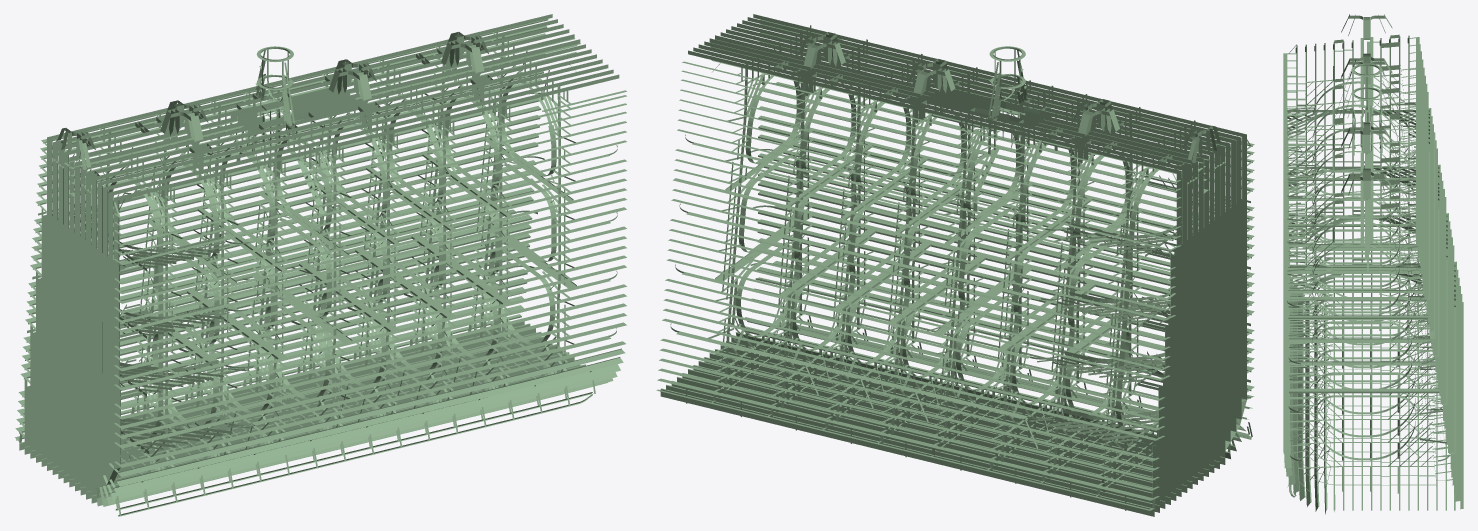
Rendered from NO_2_WING_WATER_BLT_TK_SB.glb.
The picture shows the model from 3 angles, left to right: view 1: azimuth 30°, elevation 25°; view 2: azimuth 150°, elevation 25°; view 3: azimuth 270°, elevation 25°; orthographic projection. The views are drawn at different scales.
Parts seen in each view (by area): view 1: no part large enough to name; view 2: no part large enough to name; view 3: ST_SideTransxFR89SxWeb_017001-TW_795x21+180x31_NVA_1993, ST_SideTransxFR87SxWeb_082001-TW_795x21+180x31_NVA_1993, ST_SideTransxFR88SxWeb_082001-TW_795x21+180x31_NVA_1993, ST_SideTransxFR84SxWeb_030001-TW_795x21+180x31_NVA_1993, ST_SideTransxFR88SxWeb_105001-TW_495x12+150x12_NVA_1993, ST_SideTransxFR89SxFLG_017001-TW_795x21+180x31_NVA_1993, ST_SideTransxFR83SxWeb_082001-TW_795x21+180x31_NVA_1993, ST_SideTransBHDxBHD85SxWeb_003001-TW_795x21+180x31_NVA_1993, ST_SideTransxFR86SxWeb_113001-TW_495x12+150x12_NVA_1993.
Part boxes in pixels (left/top/right/bottom): ST_SideTransxFR89SxWeb_017001-TW_795x21+180x31_NVA_1993: left=1289, top=388, right=1386, bottom=391; ST_SideTransxFR87SxWeb_082001-TW_795x21+180x31_NVA_1993: left=1289, top=339, right=1386, bottom=342; ST_SideTransxFR88SxWeb_082001-TW_795x21+180x31_NVA_1993: left=1289, top=362, right=1386, bottom=365; ST_SideTransxFR84SxWeb_030001-TW_795x21+180x31_NVA_1993: left=1289, top=270, right=1386, bottom=273; ST_SideTransxFR88SxWeb_105001-TW_495x12+150x12_NVA_1993: left=1288, top=290, right=1386, bottom=292; ST_SideTransxFR89SxFLG_017001-TW_795x21+180x31_NVA_1993: left=1289, top=391, right=1386, bottom=393; ST_SideTransxFR83SxWeb_082001-TW_795x21+180x31_NVA_1993: left=1309, top=247, right=1386, bottom=250; ST_SideTransBHDxBHD85SxWeb_003001-TW_795x21+180x31_NVA_1993: left=1289, top=297, right=1386, bottom=299; ST_SideTransxFR86SxWeb_113001-TW_495x12+150x12_NVA_1993: left=1288, top=244, right=1386, bottom=246.
Size of the model in its own units: 47.18 by 34.44 by 17.38.
